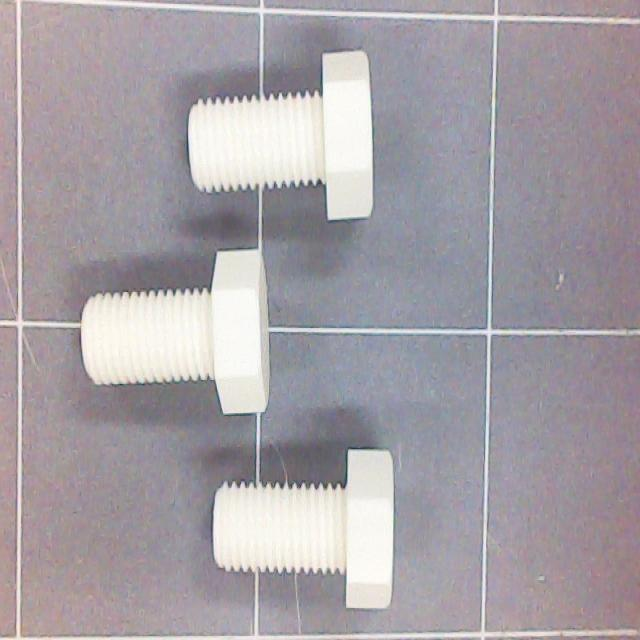bolts: (183, 50, 379, 229), (79, 249, 272, 419), (210, 445, 396, 608)
